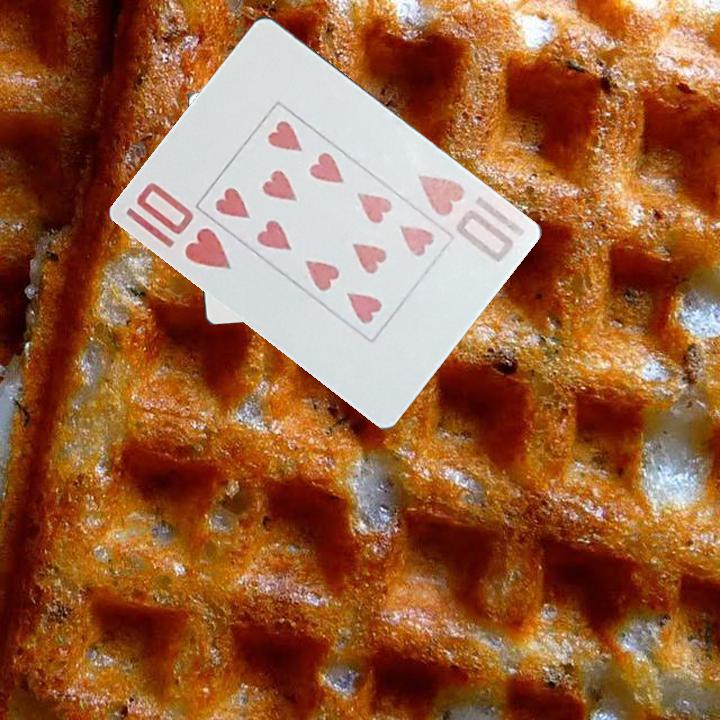Th: (412, 171, 527, 266), (132, 178, 234, 274)
